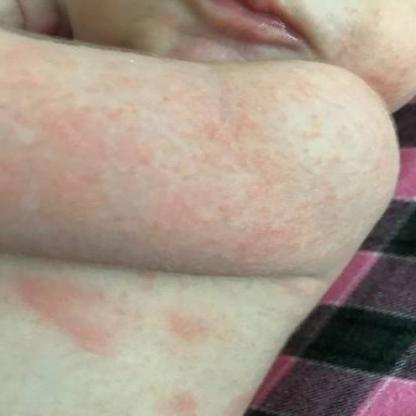Chicken Skin: (3, 62, 301, 278), (3, 265, 137, 364), (153, 305, 233, 348)
